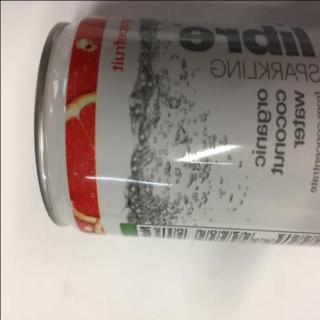Anorganik: (26, 9, 320, 251)
